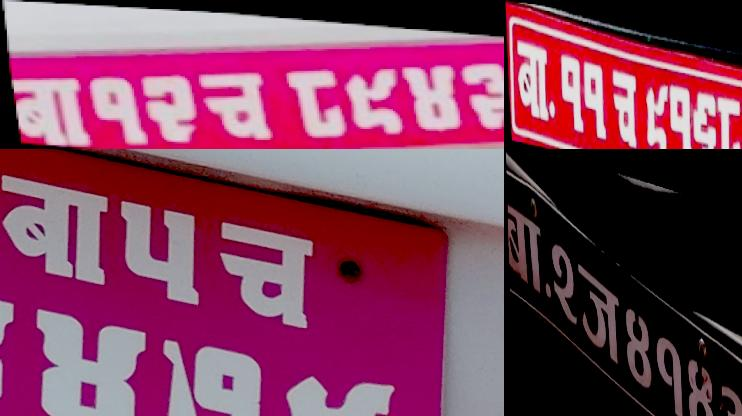1: (80, 73, 151, 145), (651, 318, 684, 416), (580, 57, 613, 141), (557, 50, 584, 134), (666, 75, 696, 149)
2: (134, 66, 201, 141), (548, 235, 578, 328)
3: (452, 53, 504, 121), (716, 361, 742, 416)
4: (12, 289, 161, 416), (396, 58, 465, 126), (621, 292, 653, 392), (684, 342, 716, 416)
5: (105, 184, 210, 311)
6: (689, 79, 719, 149)
7: (142, 319, 268, 416)
8: (275, 60, 353, 134), (714, 83, 742, 149)
9: (261, 348, 404, 416), (340, 59, 406, 130), (638, 72, 671, 149)
ba: (0, 160, 118, 285), (9, 73, 91, 147), (505, 191, 544, 298), (512, 37, 552, 124)
cha: (203, 200, 325, 333), (189, 63, 277, 143), (609, 63, 640, 148)
ja: (574, 252, 622, 369)
